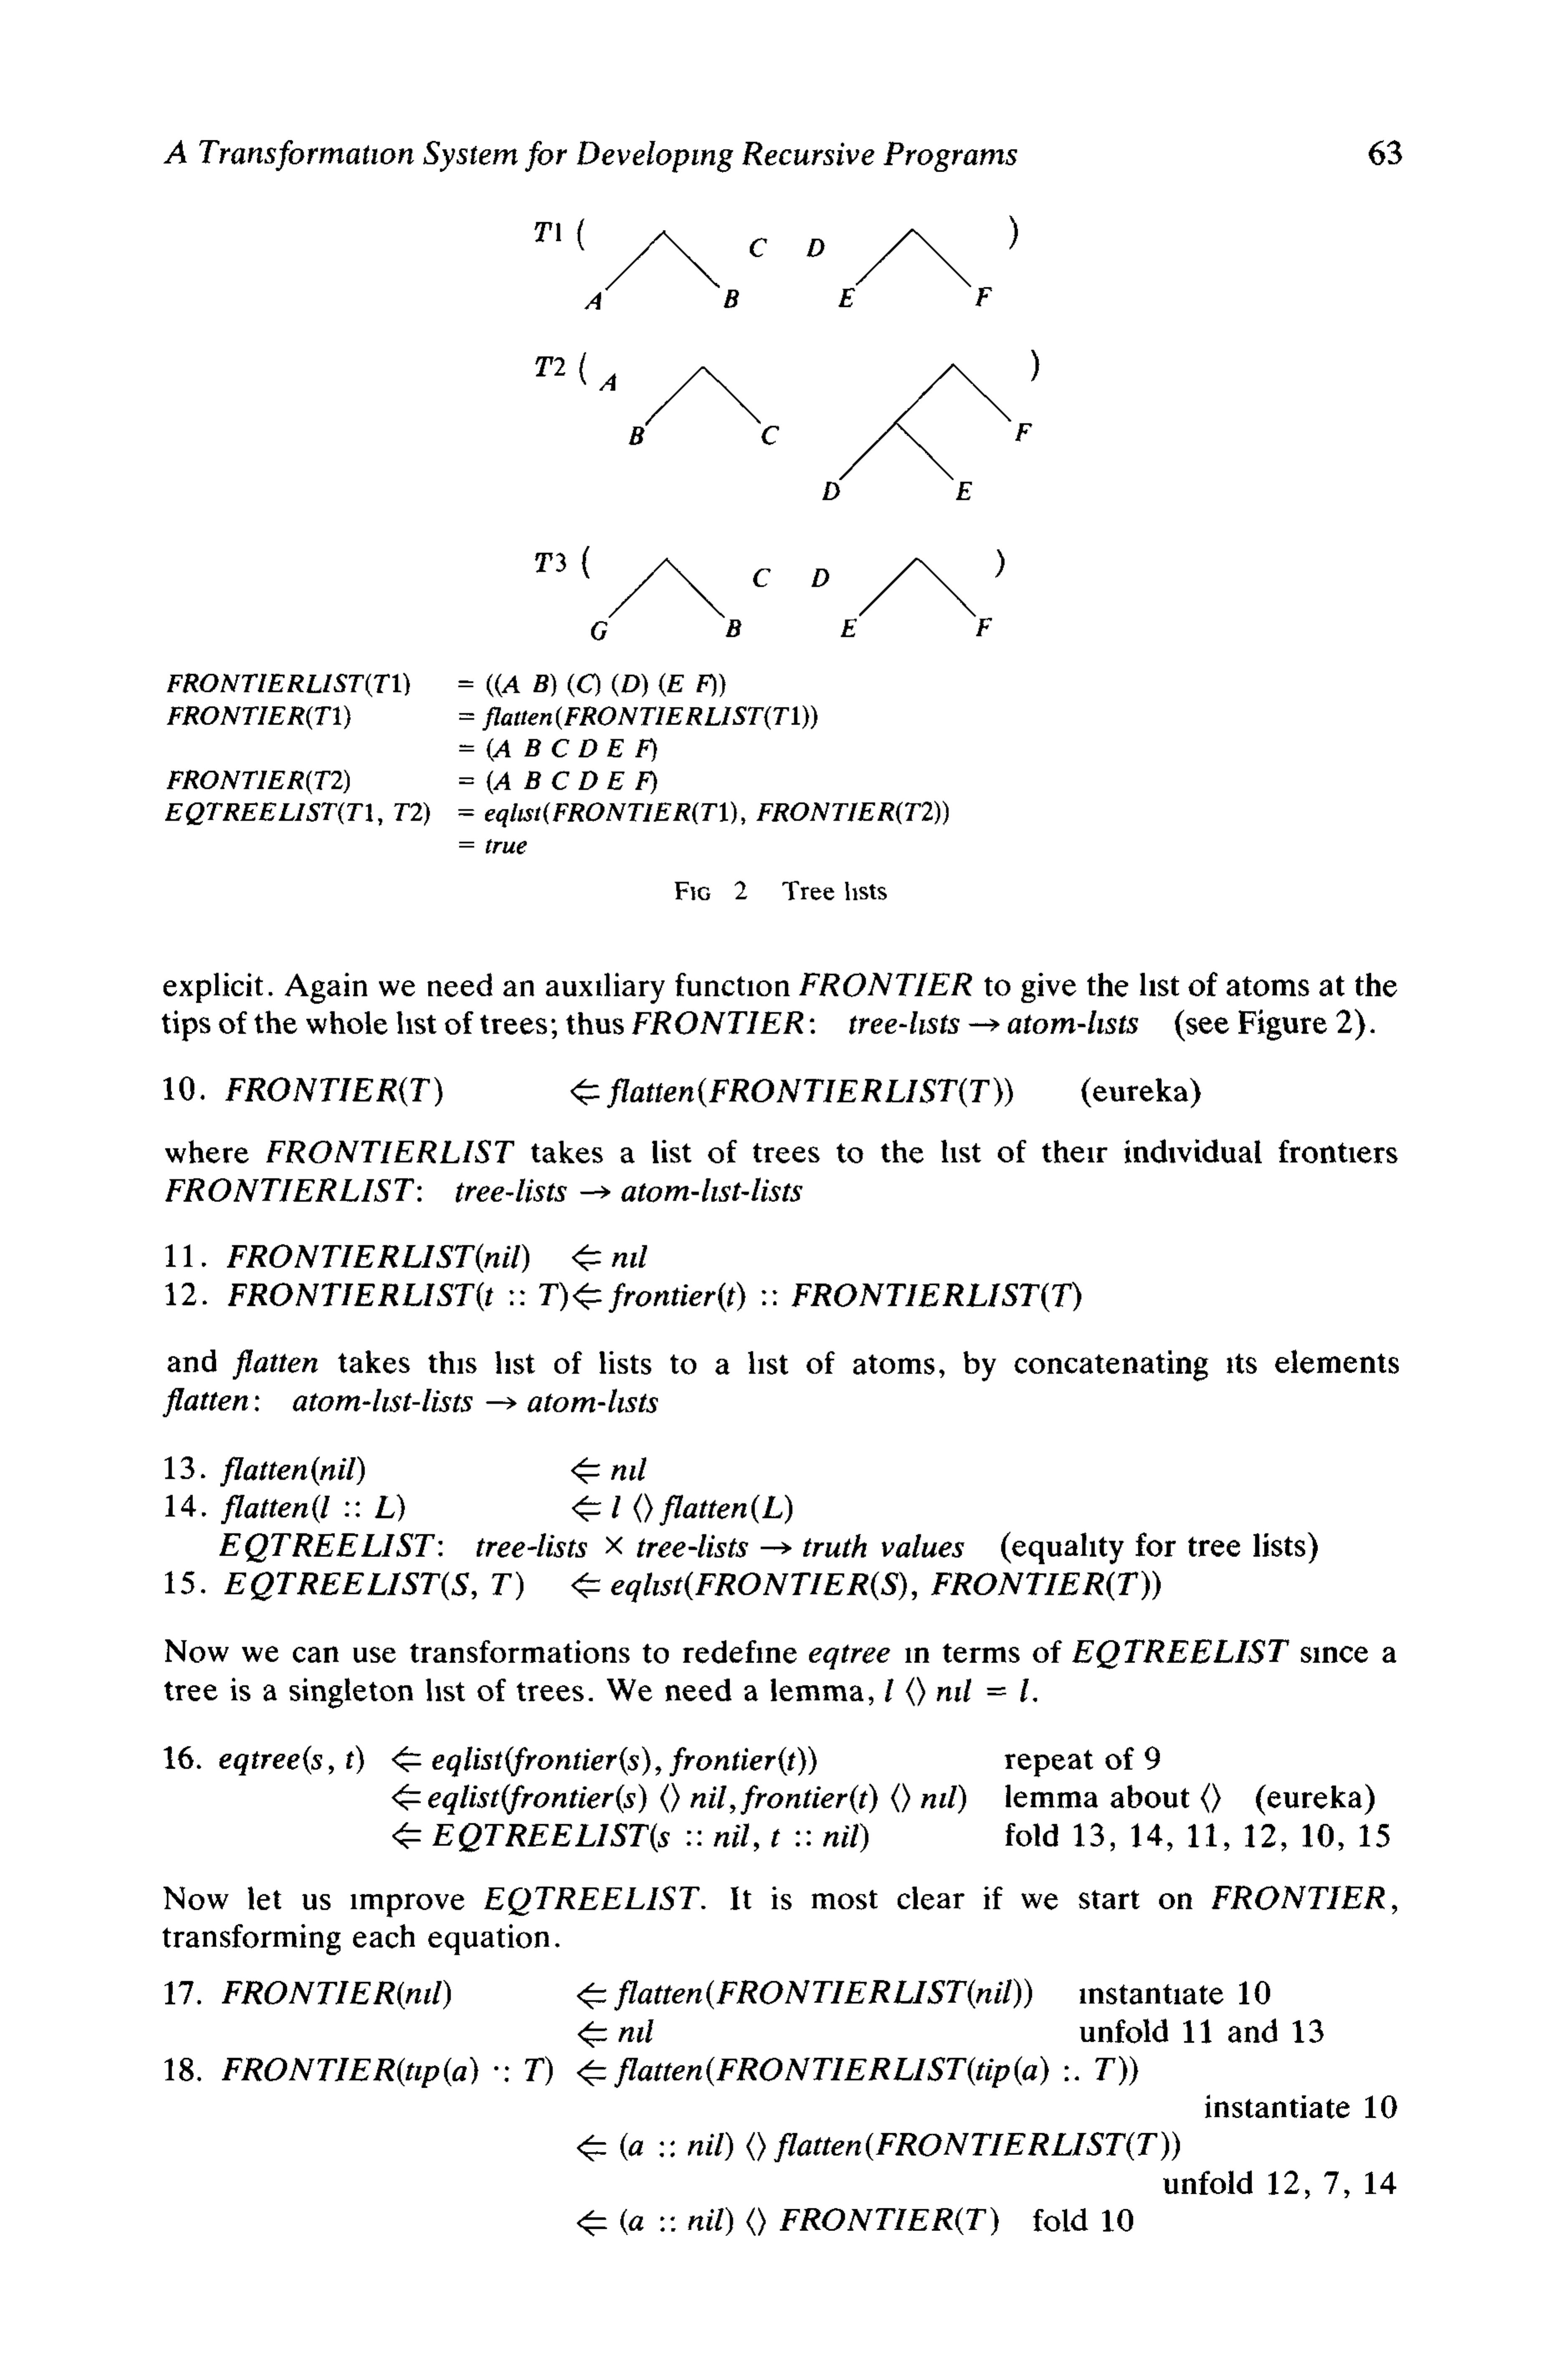maths: (225, 1571, 1161, 1602), (222, 2057, 1138, 2088), (222, 1978, 1031, 2011), (227, 1283, 1082, 1312), (225, 1076, 1012, 1108), (220, 1531, 965, 1564), (166, 800, 949, 828), (222, 1492, 792, 1526), (220, 1746, 816, 1777), (577, 2132, 1180, 2162), (428, 1782, 967, 1816), (633, 1008, 1138, 1041), (168, 706, 818, 730), (166, 1178, 802, 1202), (163, 1387, 657, 1417), (220, 1456, 647, 1487), (432, 1823, 869, 1852), (577, 2207, 998, 2237), (227, 1244, 647, 1272), (168, 771, 657, 793), (1071, 1639, 1290, 1669), (484, 1885, 699, 1915), (266, 1139, 514, 1164), (168, 673, 411, 697), (884, 1678, 1029, 1709), (799, 973, 972, 998), (1211, 1885, 1384, 1910), (533, 673, 683, 697), (232, 1349, 318, 1379), (579, 2020, 654, 2048), (460, 737, 542, 762), (458, 675, 521, 697), (460, 839, 526, 854), (391, 1784, 421, 1810), (393, 1823, 421, 1849), (696, 675, 725, 697), (1201, 1782, 1220, 1814), (636, 737, 657, 762), (579, 739, 598, 757), (552, 739, 570, 757), (606, 739, 624, 757)
